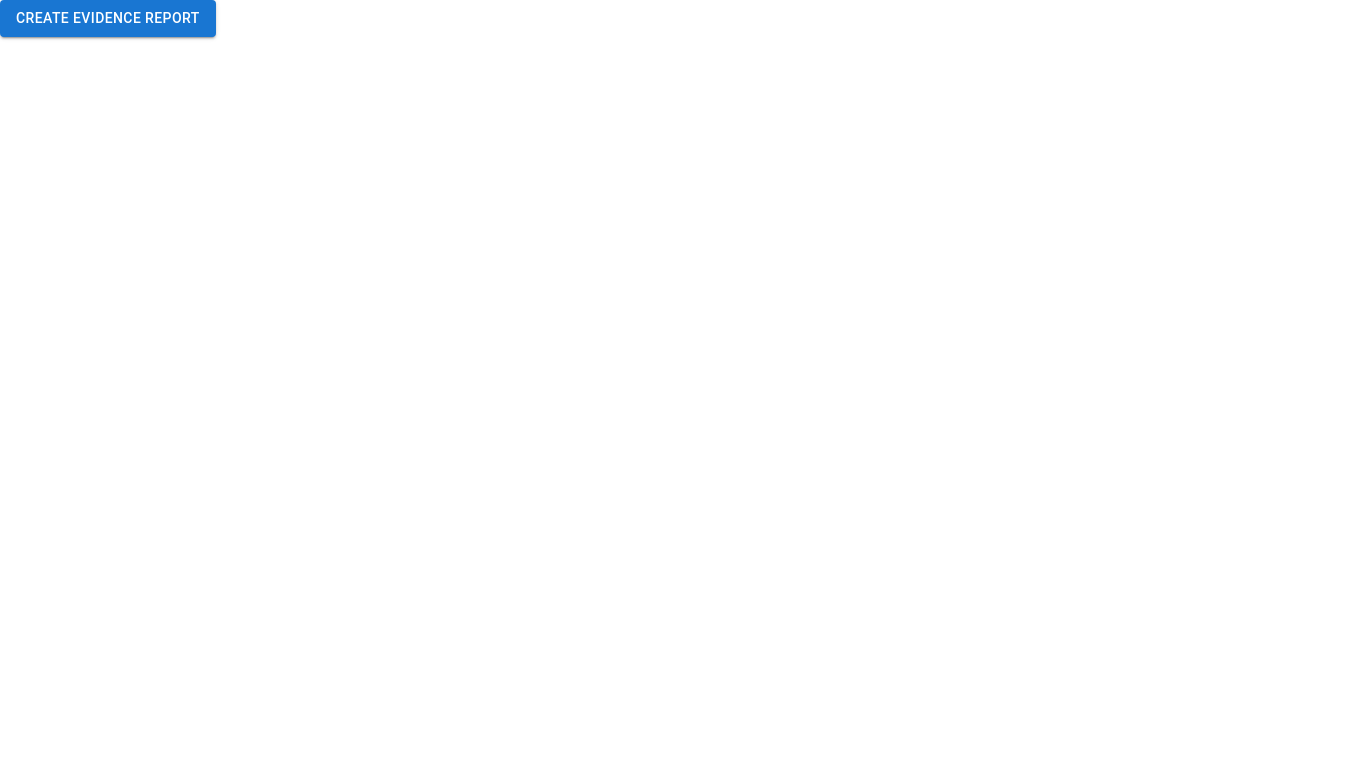
Test case: evidence report setup › previews server-selected sources and generates only the selected paper IDs
The width and height of the screenshot is (1366, 768).
What coordinates should you click on to do the following:
click the button "Create evidence report"
I would click on:
 (108, 18)
Its box is [0,0,216,36].
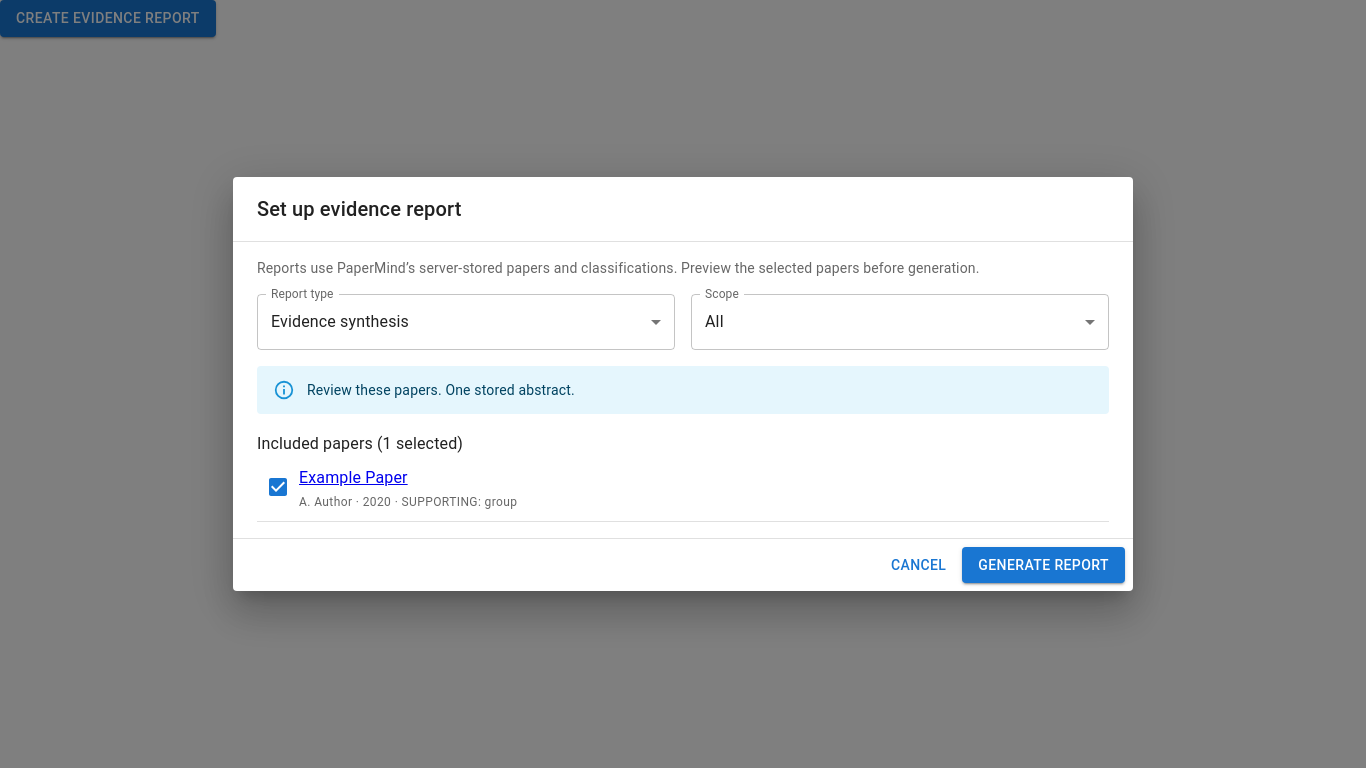
Expected: the link "Example Paper" is shown, [299,468,408,487]
What coordinates should you click on to do the following:
click the button "Generate report"
I would click on:
 (1044, 565)
Its box is [962,547,1125,583].
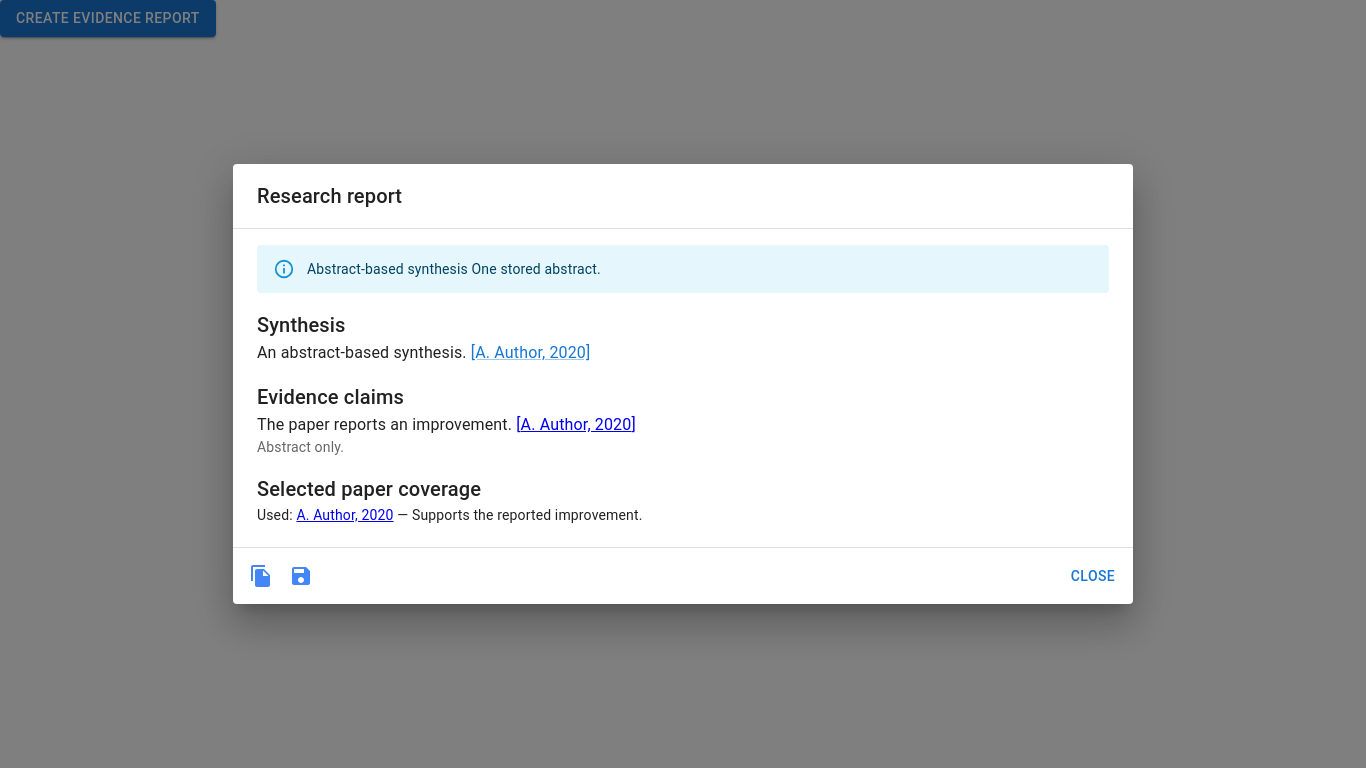
Expected: the text "An abstract-based synthesis. [A. Author, 2020]" is shown, [257,343,590,362]
Expected: the number of links "[A. Author, 2020]" is 2, [471,343,590,362]; [516,415,636,434]
Expected: the text "Used: A. Author, 2020 — Supports the reported improvement." is shown, [257,507,642,523]
